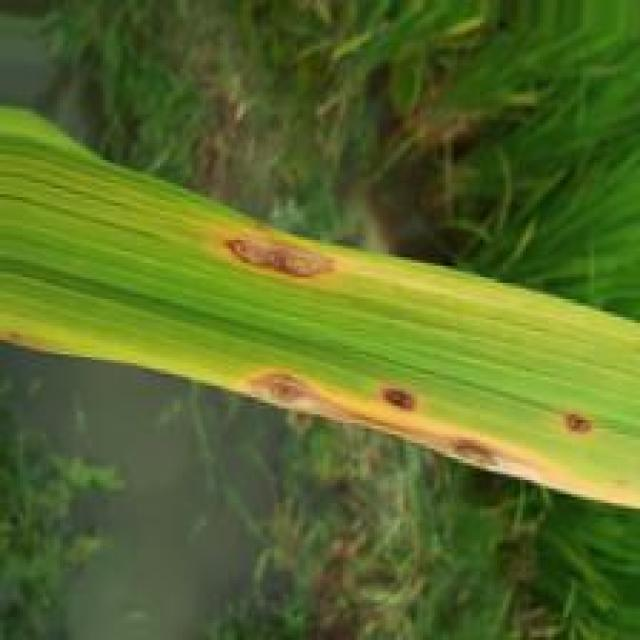Narrow_Brown_Leaf_Spot: (218, 369, 640, 510), (218, 238, 338, 278), (565, 415, 588, 437)
